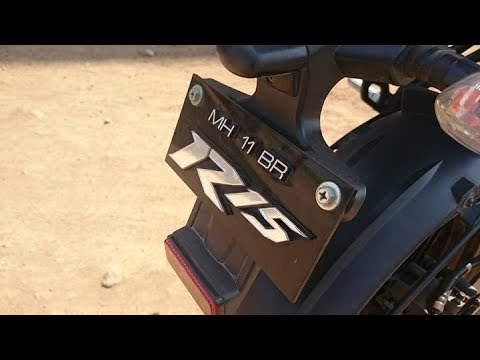number_plate: (164, 72, 373, 304)
